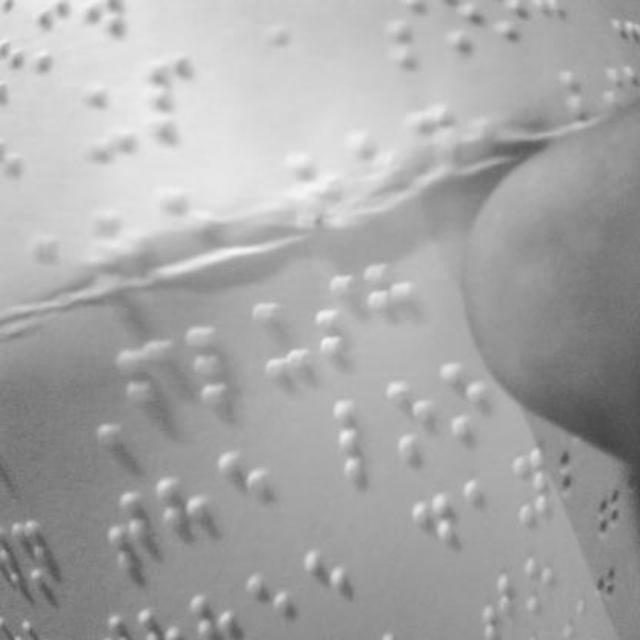braiile: (311, 268, 363, 374), (79, 69, 135, 167), (218, 447, 274, 543), (148, 54, 202, 152), (98, 486, 152, 582), (186, 324, 244, 411), (156, 471, 210, 564), (409, 488, 459, 588), (385, 376, 437, 472), (334, 395, 388, 487), (120, 338, 170, 436), (252, 299, 308, 385), (306, 547, 354, 637), (243, 554, 293, 640), (472, 556, 520, 640), (511, 438, 554, 530)
